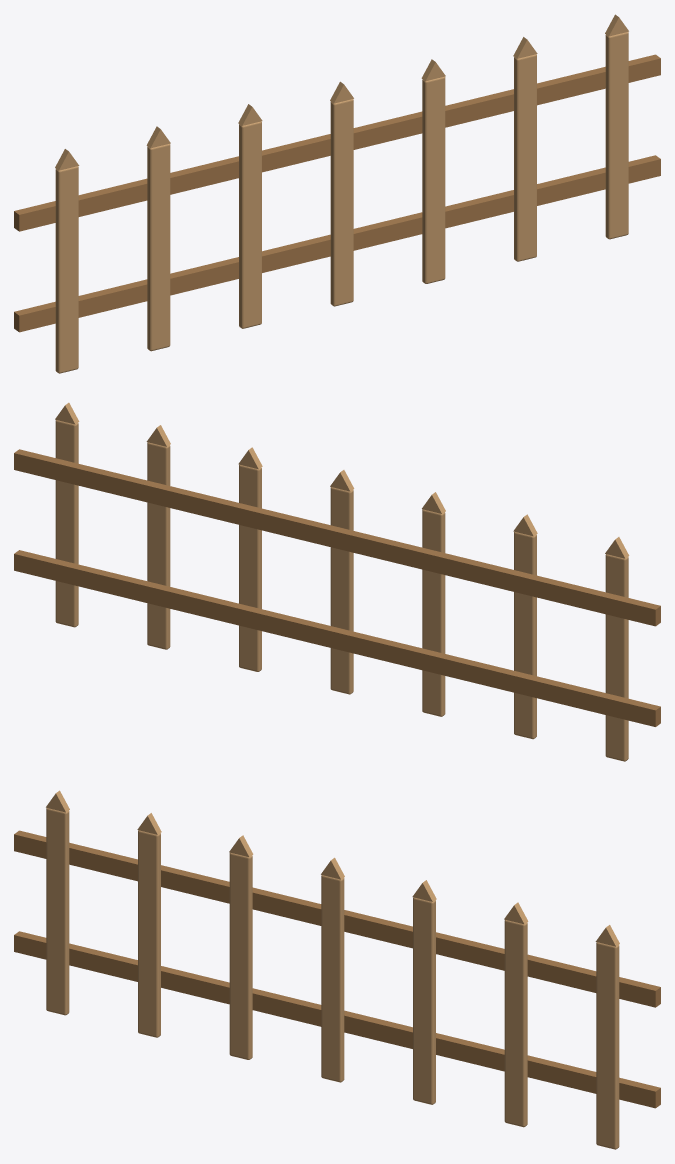
Rendered from fence.glb.
3 views of the same model, one above another, from view 1: azimuth 30°, elevation 25°; view 2: azimuth 150°, elevation 25°; view 3: azimuth 330°, elevation 25° (orthographic).
Visible parts, largest first — view 1: rail0, rail1, picket0, picket3, picket1, picket6, picket4, picket5, picket2; view 2: rail1, rail0, picket5, picket6, picket0, picket2, picket3, picket1, picket4; view 3: rail0, rail1, picket3, picket6, picket0, picket5, picket2, picket1, picket4.
Boxes of the visible parts, x1,y1,x2,y2 form: rail0: [14, 155, 660, 332]; rail1: [14, 54, 660, 231]; picket0: [55, 166, 78, 373]; picket3: [330, 99, 353, 306]; picket1: [147, 143, 170, 351]; picket6: [605, 32, 628, 239]; picket4: [422, 76, 445, 283]; picket5: [514, 54, 536, 261]; picket2: [239, 121, 261, 328]; rail1: [14, 449, 660, 626]; rail0: [14, 550, 660, 726]; picket5: [147, 442, 170, 649]; picket6: [55, 420, 78, 627]; picket0: [605, 554, 628, 761]; picket2: [422, 509, 445, 716]; picket3: [330, 487, 353, 694]; picket1: [514, 531, 536, 739]; picket4: [239, 464, 261, 671]; rail0: [14, 931, 660, 1108]; rail1: [14, 830, 660, 1007]; picket3: [321, 875, 344, 1082]; picket6: [596, 942, 619, 1149]; picket0: [46, 808, 69, 1015]; picket5: [504, 919, 527, 1127]; picket2: [229, 852, 252, 1059]; picket1: [138, 830, 160, 1037]; picket4: [413, 897, 435, 1104].
Size of the model in its own units: 2.8 by 0.92 by 0.07.
